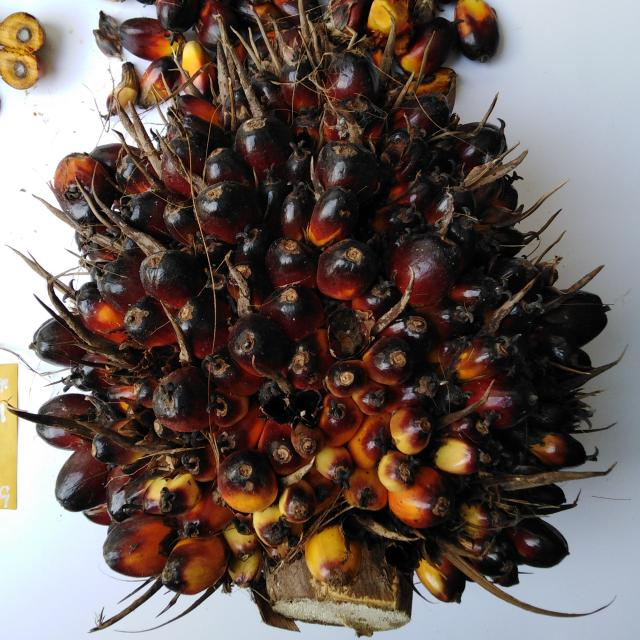FFB: (79, 61, 560, 596)
